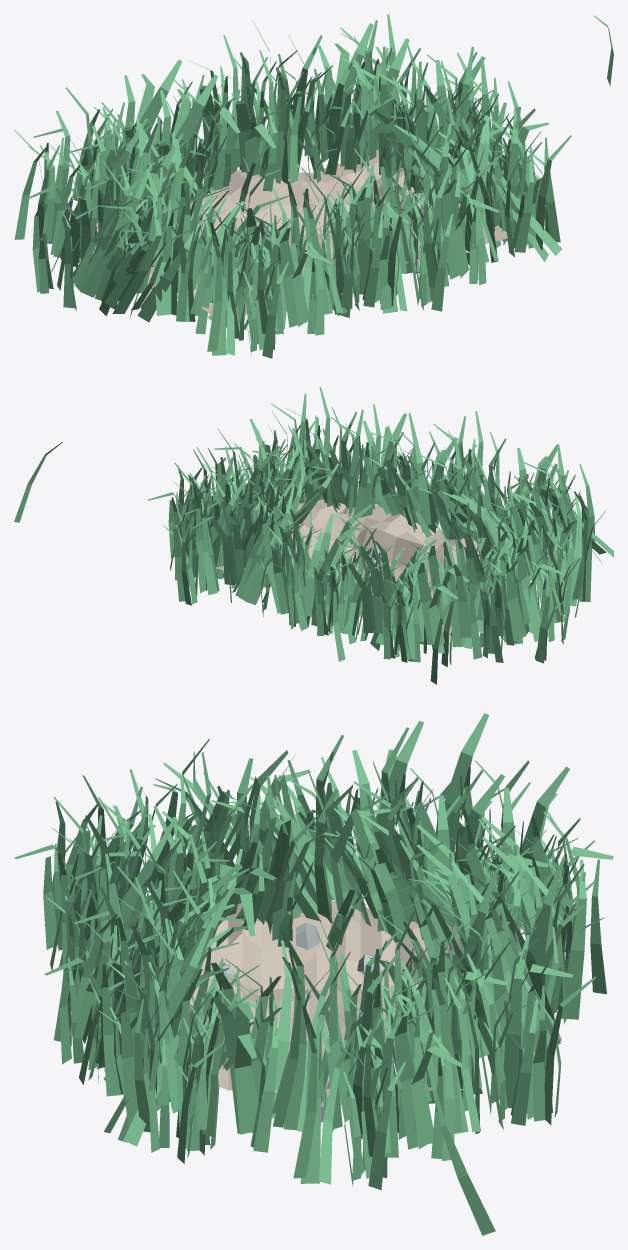
File: 041420landscapeModel.glb
The picture shows the model from 3 angles, top to bottom: view 1: azimuth 30°, elevation 25°; view 2: azimuth 150°, elevation 25°; view 3: azimuth 270°, elevation 25°; orthographic projection. The views are drawn at different scales.
Parts seen in each view (by area): view 1: Plane, Plane.419, Plane.599, Plane.580, Plane.385, Plane.464, Plane.382, Plane.629, Plane.567, Plane.340, Plane.610, Plane.579 (+66 smaller); view 2: Plane, Plane.441, Plane.490, Plane.449, Plane.442, Plane.536, Plane.517, Plane.704, Plane.378, Plane.496, Plane.148, Plane.456 (+32 smaller); view 3: Plane, Plane.706, Plane.675, Plane.542, Plane.725, Plane.726, Plane.089, Plane.674, Plane.738, Plane.683, Plane.739, Plane.441 (+56 smaller).
Boxes of the visible parts, x1,y1,x2,y2 form: Plane: [96, 150, 512, 315]; Plane.419: [80, 163, 152, 297]; Plane.599: [357, 164, 374, 294]; Plane.580: [279, 227, 297, 327]; Plane.385: [112, 198, 161, 313]; Plane.464: [379, 46, 392, 174]; Plane.382: [137, 220, 201, 322]; Plane.629: [442, 179, 459, 279]; Plane.567: [207, 235, 222, 351]; Plane.340: [169, 74, 217, 171]; Plane.610: [501, 110, 518, 240]; Plane.579: [292, 249, 332, 326]; Plane: [216, 499, 533, 637]; Plane.441: [506, 561, 526, 641]; Plane.490: [245, 484, 294, 605]; Plane.449: [453, 564, 471, 637]; Plane.442: [516, 537, 541, 641]; Plane.536: [303, 531, 322, 616]; Plane.517: [417, 562, 432, 643]; Plane.704: [202, 500, 217, 595]; Plane.378: [570, 493, 581, 606]; Plane.496: [192, 517, 234, 585]; Plane.148: [414, 441, 431, 526]; Plane.456: [329, 563, 373, 632]; Plane: [189, 900, 463, 1106]; Plane.706: [503, 935, 529, 1108]; Plane.675: [234, 1033, 258, 1134]; Plane.542: [561, 859, 586, 1019]; Plane.725: [394, 1015, 431, 1149]; Plane.726: [411, 1045, 463, 1148]; Plane.089: [434, 1091, 495, 1235]; Plane.674: [282, 957, 306, 1130]; Plane.738: [293, 1023, 317, 1178]; Plane.683: [253, 1020, 277, 1152]; Plane.739: [300, 1005, 321, 1183]; Plane.441: [444, 713, 489, 853].
Size of the model in its own units: 123 by 33.25 by 77.46.
